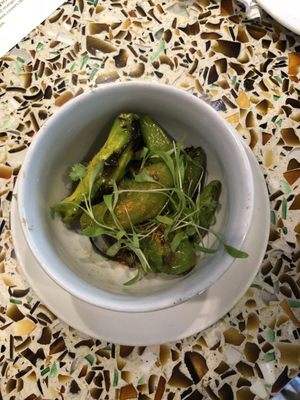sushi: (9, 80, 271, 353)
